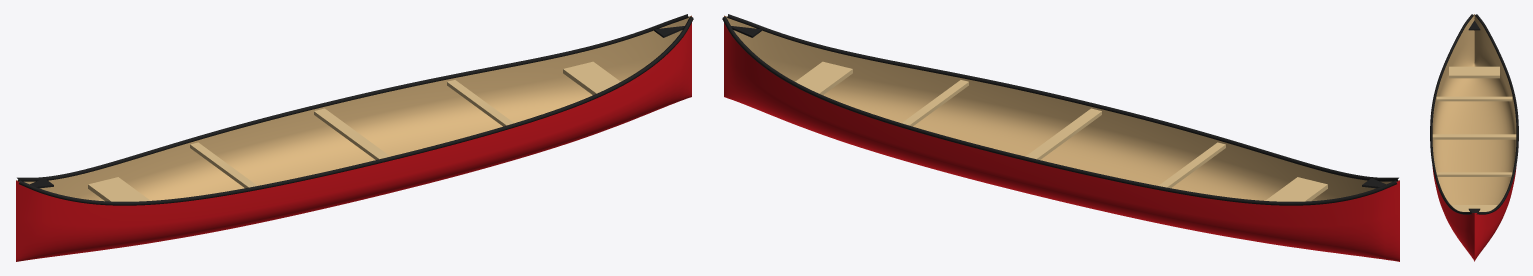
File: canoe.glb
The picture shows the model from 3 angles, left to right: view 1: azimuth 30°, elevation 25°; view 2: azimuth 150°, elevation 25°; view 3: azimuth 270°, elevation 25°; orthographic projection. The views are drawn at different scales.
Visible parts, largest first — view 1: hull_interior, hull, gunwale_port, gunwale_starboard, seat_bow, yoke, seat_stern, thwart_bow, thwart_stern; view 2: hull_interior, hull, gunwale_starboard, gunwale_port, seat_bow, yoke, seat_stern, thwart_bow, thwart_stern; view 3: hull_interior, hull, gunwale_port, gunwale_starboard, seat_stern, yoke, thwart_stern, thwart_bow, seat_bow, deck_stern.
Part boxes in pixels (bbox=[...]): hull_interior: bbox=[16, 15, 691, 201]; hull: bbox=[16, 16, 691, 261]; gunwale_port: bbox=[19, 16, 693, 205]; gunwale_starboard: bbox=[17, 14, 688, 181]; seat_bow: bbox=[563, 61, 620, 95]; yoke: bbox=[314, 108, 389, 159]; seat_stern: bbox=[88, 177, 150, 201]; thwart_bow: bbox=[447, 80, 513, 126]; thwart_stern: bbox=[190, 142, 257, 188]; hull_interior: bbox=[724, 15, 1399, 201]; hull: bbox=[724, 16, 1399, 261]; gunwale_starboard: bbox=[722, 16, 1396, 205]; gunwale_port: bbox=[727, 14, 1398, 181]; seat_bow: bbox=[795, 61, 852, 95]; yoke: bbox=[1026, 108, 1101, 159]; seat_stern: bbox=[1265, 177, 1327, 201]; thwart_bow: bbox=[902, 80, 968, 126]; thwart_stern: bbox=[1158, 142, 1225, 188]; hull_interior: bbox=[1432, 14, 1516, 204]; hull: bbox=[1432, 167, 1516, 261]; gunwale_port: bbox=[1430, 14, 1473, 214]; gunwale_starboard: bbox=[1475, 14, 1518, 214]; seat_stern: bbox=[1449, 66, 1499, 78]; yoke: bbox=[1432, 134, 1516, 139]; thwart_stern: bbox=[1436, 96, 1512, 101]; thwart_bow: bbox=[1436, 172, 1512, 176]; seat_bow: bbox=[1451, 205, 1497, 211]; deck_stern: bbox=[1468, 20, 1480, 30].
Size of the model in its own units: 4.9 by 0.6058 by 0.9258.
